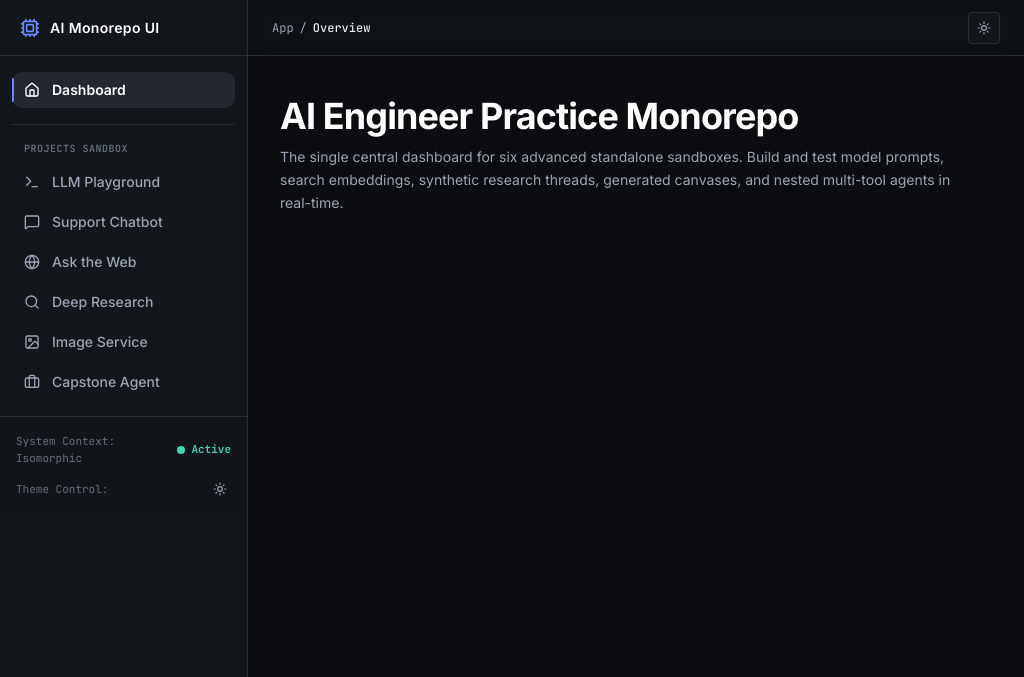
Test: history retrieval failure / timeout (Requirement 13.6) › shows an error identifying the failed history retrieval + affected project on a backend failure
Click the button "LLM Playground". click: (124, 182)
box: [12,164,235,200]
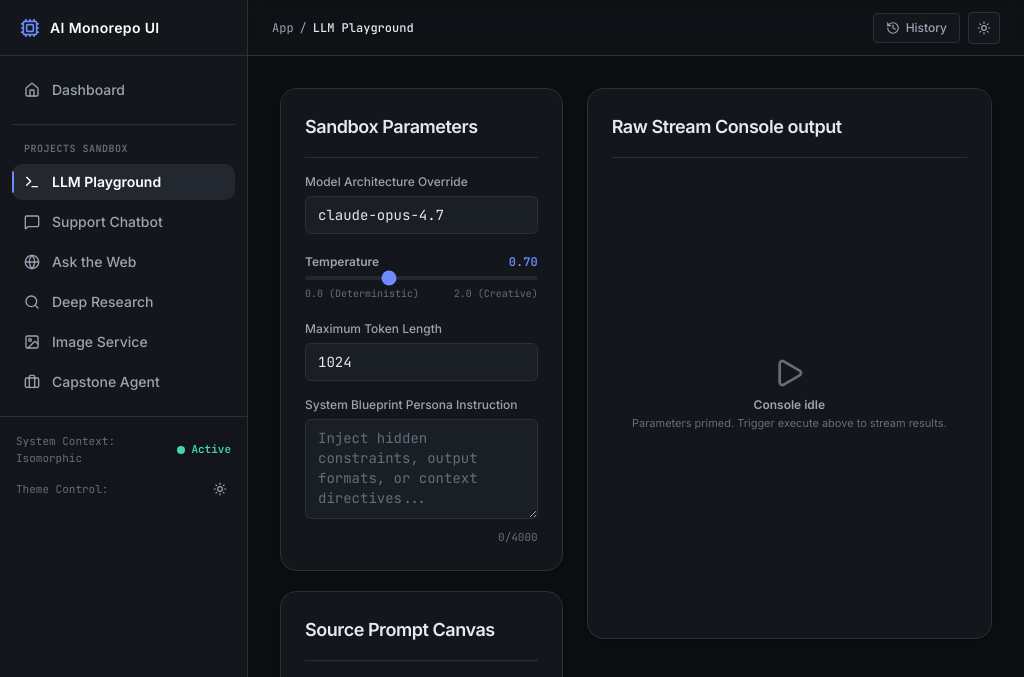
Click the button titled "historic execution logs". click: (916, 28)
box: [873,12,960,42]
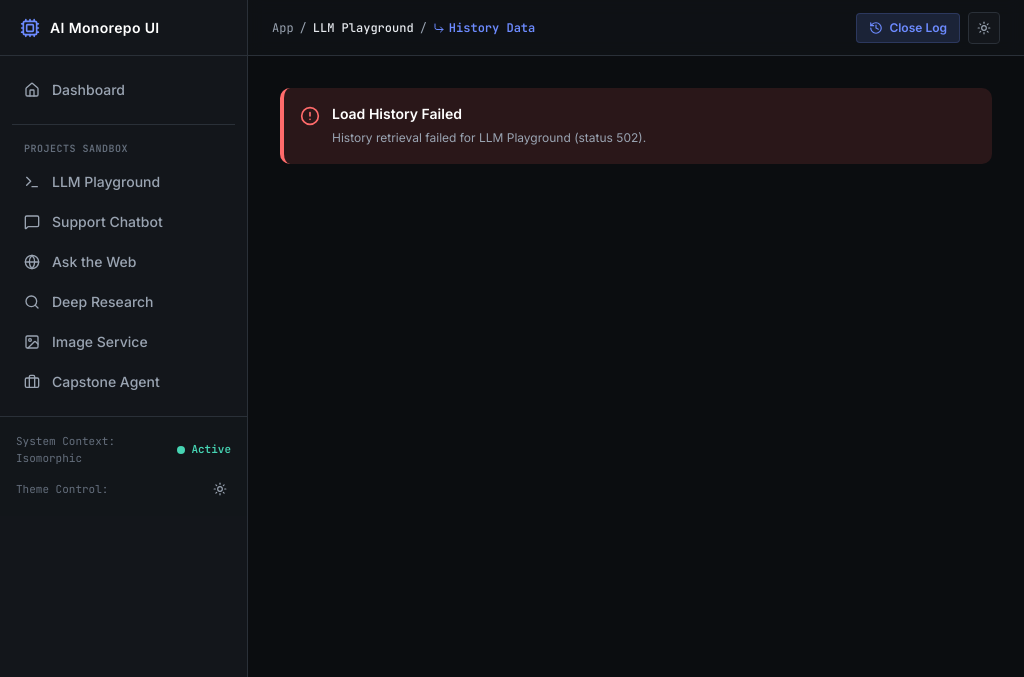
Result: the message "load history Failed History retrieval failed for LLM Playground (status 502)." is shown at [280,88,992,164]
Result: the text "History retrieval failed for LLM Playground (status 502)." is shown at [332,128,646,148]
